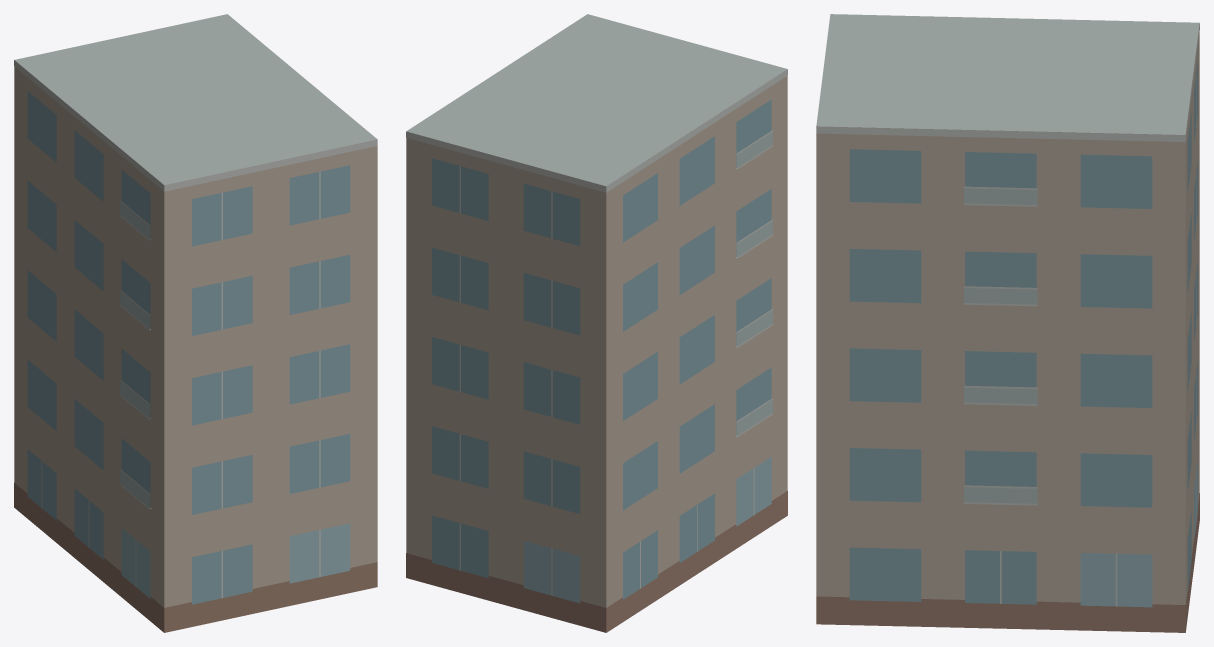
The model's file is survey-upis-32996446.glb.
The picture shows the model from 3 angles, left to right: view 1: azimuth 30°, elevation 25°; view 2: azimuth 150°, elevation 25°; view 3: azimuth 270°, elevation 25°; orthographic projection. The views are drawn at different scales.
Parts seen in each view (by area): view 1: survey-upis-32996446.tmp; view 2: survey-upis-32996446.tmp; view 3: survey-upis-32996446.tmp.
Boxes of the visible parts, <box> form: survey-upis-32996446.tmp: <box>14,14,377,632</box>; survey-upis-32996446.tmp: <box>406,14,787,632</box>; survey-upis-32996446.tmp: <box>816,14,1199,632</box>.
Bounding box in the file's own units: 8.9 × 17.05 × 11.91.
